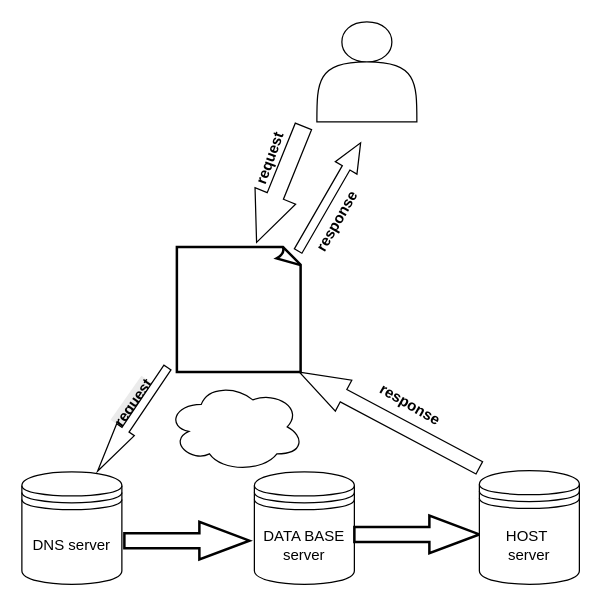
The diagram is 601 pixels wide and 606 high, and some of its shapes have lost their labels. Here are the shapes that lost their labels. From the top down, the centre of each, then its label:
At (366,71): "user".
At (238,308): "web site".
At (235,426): "internet".
